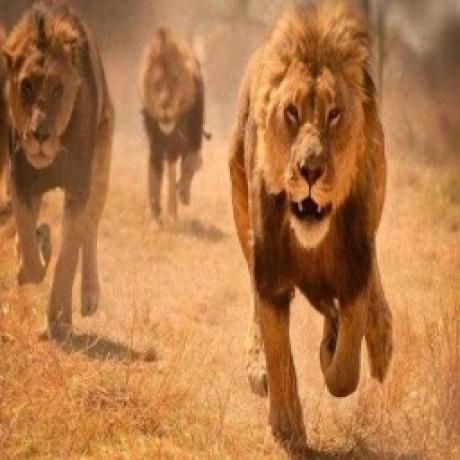Lion: (229, 0, 396, 460), (0, 0, 115, 345), (135, 23, 212, 225)
